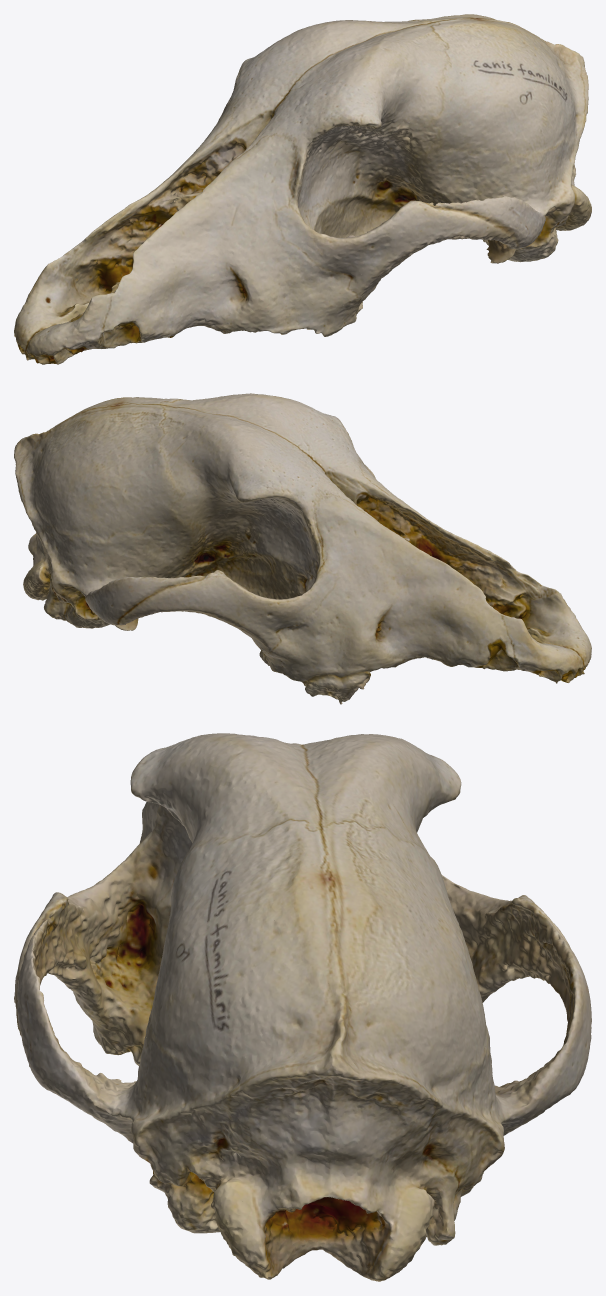
The model's file is canis_familiaris_dog_skull.glb.
The picture shows the model from 3 angles, top to bottom: view 1: azimuth 30°, elevation 25°; view 2: azimuth 150°, elevation 25°; view 3: azimuth 270°, elevation 25°; orthographic projection. The views are drawn at different scales.
Visible parts, largest first — view 1: Object_2, Object_3, Object_7, Object_4, Object_6, Object_5; view 2: Object_2, Object_3, Object_7, Object_6, Object_4, Object_5; view 3: Object_2, Object_4, Object_3, Object_5, Object_6, Object_7.
Part boxes in pixels (x1,y1,x2,y2): Object_2: (95,14,565,348); Object_3: (15,16,544,364); Object_7: (18,31,588,337); Object_4: (14,35,588,364); Object_6: (15,110,590,359); Object_5: (168,164,591,337); Object_2: (14,393,415,602); Object_3: (36,399,588,701); Object_7: (14,425,584,661); Object_6: (24,499,591,704); Object_4: (15,424,588,682); Object_5: (23,534,407,702); Object_2: (93,733,513,1135); Object_4: (14,894,585,1241); Object_3: (22,794,591,1245); Object_5: (29,976,577,1280); Object_6: (15,814,590,1281); Object_7: (18,805,590,1096).
Size of the model in its own units: 2.22 by 0.9558 by 1.19.
Materials: 1 (1 with a texture image).
